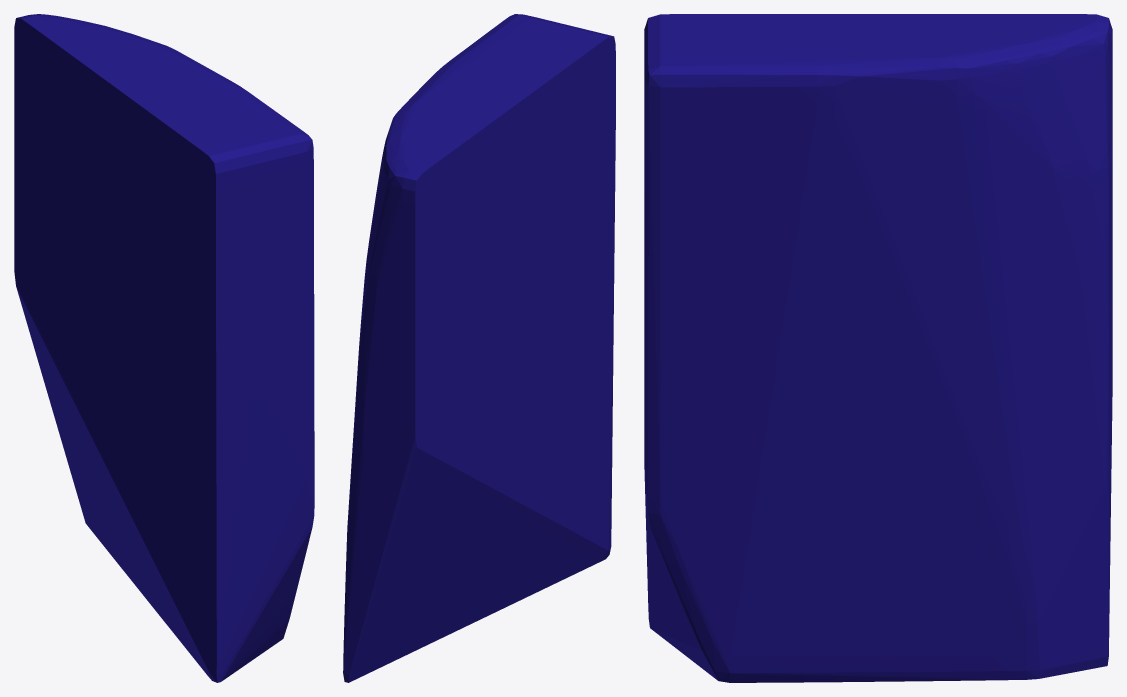
The model's file is right-shoulder-pitch-0_part_20.obj.
3 renders of one model, left to right at view 1: azimuth 30°, elevation 25°; view 2: azimuth 150°, elevation 25°; view 3: azimuth 270°, elevation 25°, orthographic. The views are drawn at different scales.
Bounding box in the file's own units: 0.0108 × 0.0521 × 0.0361.
